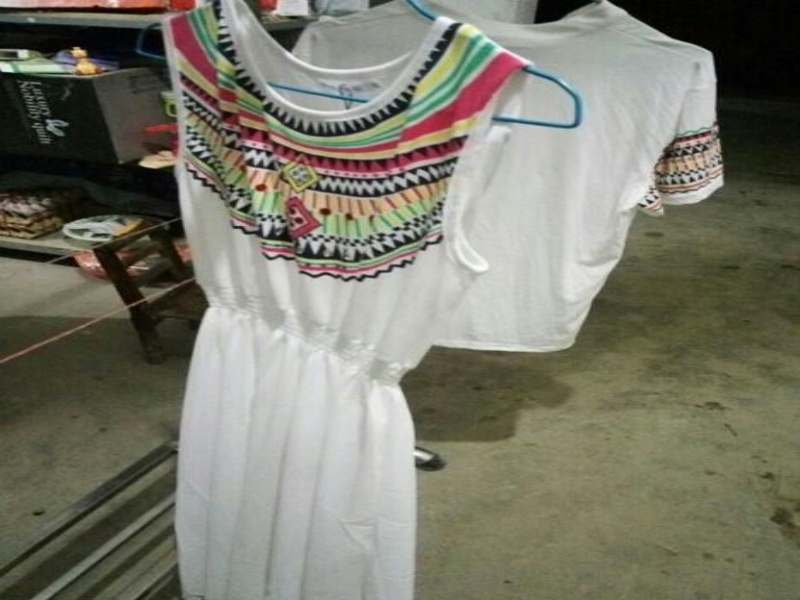short_sleeved_shirt: (193, 0, 730, 358)
vest_dress: (147, 0, 538, 599)
